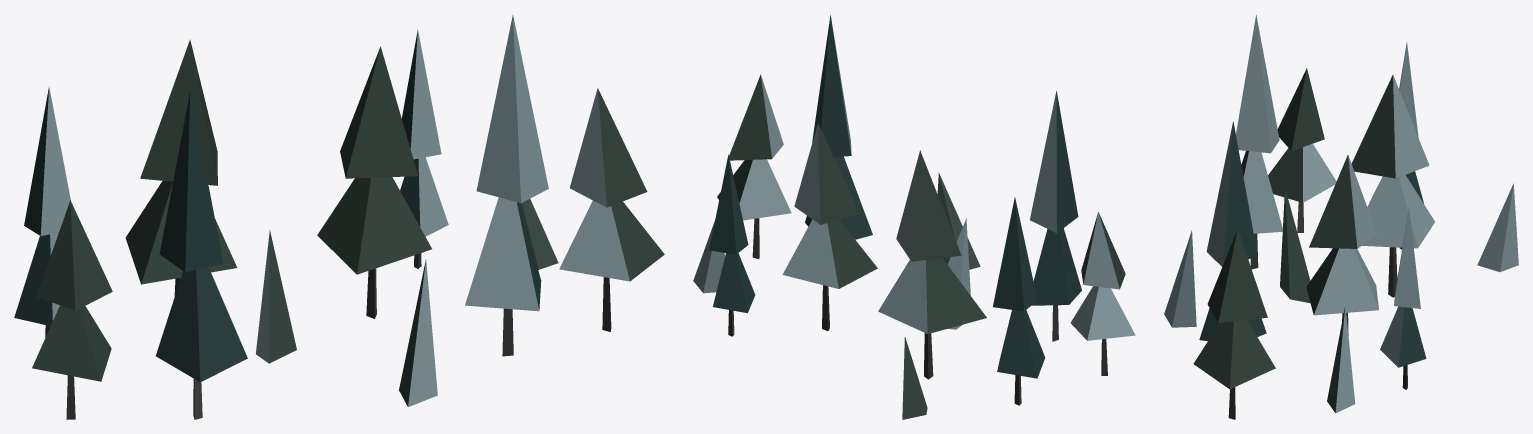
Rendered from Woodland_Patch_Far.obj.
3 renders of one model, left to right at view 1: azimuth 30°, elevation 25°; view 2: azimuth 150°, elevation 25°; view 3: azimuth 270°, elevation 25°, orthographic. The views are drawn at different scales.
Parts seen in each view (by area): view 1: Woodland_Patch_Far; view 2: Woodland_Patch_Far; view 3: Woodland_Patch_Far.
Part boxes in pixels (left/top/right/bottom): Woodland_Patch_Far: left=14, top=15, right=664, bottom=419; Woodland_Patch_Far: left=693, top=15, right=1135, bottom=419; Woodland_Patch_Far: left=1164, top=15, right=1518, bottom=419.
Bounding box in the file's own units: 20.96 × 11.55 × 14.18.
1 material, 1 textured.
